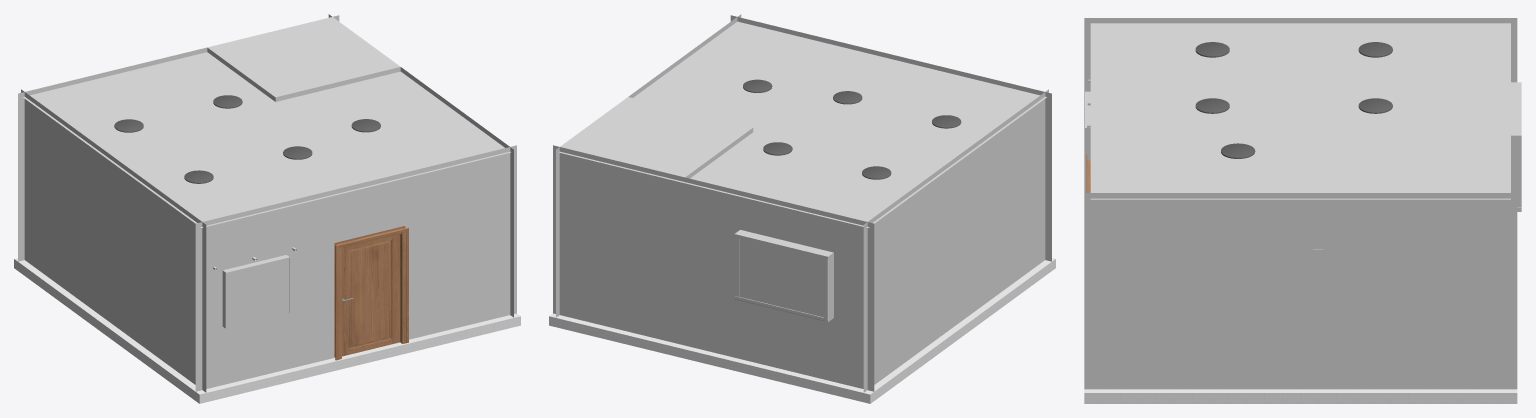
The model's file is selfcon.glb.
3 renders of one model, left to right at view 1: azimuth 30°, elevation 25°; view 2: azimuth 150°, elevation 25°; view 3: azimuth 270°, elevation 25°, orthographic. The views are drawn at different scales.
Parts seen in each view (by area): view 1: ceiling, wallFront, wallLeft, toilet, d2, floor, windowFront, wallBack, wallRight; view 2: ceiling, wallBack, wallLeft, toilet, floor, windowBack, wallFront, backWindowFrame, wallRight; view 3: wallRight, ceiling, toilet, floor, Modern Wardrobe White, wallLeft, backWindowFrame, wallFront, LED Light 28cm 3000K.001, LED Light 28cm 3000K.002, LED Light 28cm 3000K.003, LED Light 28cm 3000K (+1 smaller).
Boxes of the visible parts, x1=… form: ceiling: x1=23, y1=52, x2=510, y2=227; wallFront: x1=195, y1=145, x2=516, y2=391; wallLeft: x1=21, y1=89, x2=206, y2=392; toilet: x1=207, y1=17, x2=400, y2=101; d2: x1=334, y1=226, x2=408, y2=360; floor: x1=14, y1=258, x2=520, y2=403; windowFront: x1=225, y1=257, x2=289, y2=329; wallBack: x1=18, y1=15, x2=339, y2=261; wallRight: x1=328, y1=14, x2=513, y2=317; ceiling: x1=559, y1=21, x2=1046, y2=227; wallBack: x1=553, y1=145, x2=874, y2=391; wallLeft: x1=863, y1=89, x2=1048, y2=392; toilet: x1=559, y1=97, x2=753, y2=345; floor: x1=549, y1=258, x2=1055, y2=403; windowBack: x1=740, y1=239, x2=823, y2=317; wallFront: x1=730, y1=15, x2=1051, y2=261; backWindowFrame: x1=734, y1=230, x2=833, y2=321; wallRight: x1=556, y1=14, x2=741, y2=317; wallRight: x1=1084, y1=193, x2=1517, y2=389; ceiling: x1=1090, y1=23, x2=1510, y2=199; toilet: x1=1348, y1=121, x2=1507, y2=389; floor: x1=1084, y1=389, x2=1517, y2=403; Modern Wardrobe White: x1=1298, y1=249, x2=1323, y2=389; wallLeft: x1=1084, y1=18, x2=1517, y2=192; backWindowFrame: x1=1511, y1=82, x2=1521, y2=211; wallFront: x1=1085, y1=91, x2=1090, y2=192; LED Light 28cm 3000K.001: x1=1358, y1=98, x2=1392, y2=113; LED Light 28cm 3000K.002: x1=1195, y1=42, x2=1229, y2=57; LED Light 28cm 3000K.003: x1=1195, y1=98, x2=1229, y2=113; LED Light 28cm 3000K: x1=1358, y1=42, x2=1392, y2=57.
Bounding box in the file's own units: 12 × 7.17 × 12.12.
Materials: 21 (2 with a texture image).
